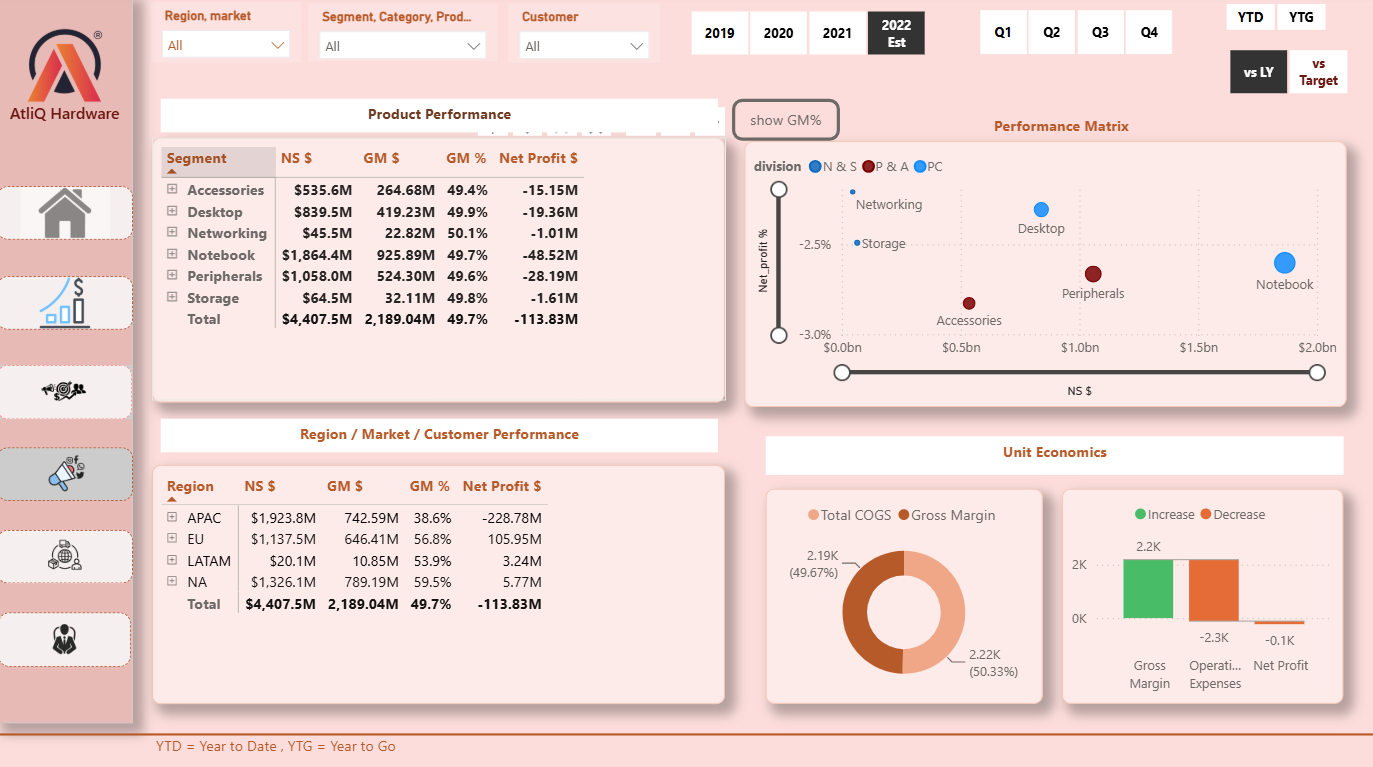

This screenshot's page, from the dashboard's own definition file:
{"tool":"powerbi","page":{"name":"Market View ","canvas":[1280,720],"ordinal":3},"visuals":[{"type":"scatterChart","title":"NP % visual","fields":{"Category":["dim_product.segment","dim_product.category","dim_product.product"],"X":["Key Measures.NS $"],"Size":["Key Measures.NS $"],"Series":["dim_product.division"],"Y":["Key Measures.Net_profit %"]},"box":[695.5,135.7,560,246.8],"z":0,"group":"g1"},{"type":"textbox","box":[714.9,410.3,537.9,35.7],"z":0},{"type":"actionButton","title":"GM % Button","box":[683.6,96.6,100.4,39.1],"z":1000,"group":"g1"},{"type":"textbox","box":[826.1,107,329.3,28.8],"z":1000},{"type":"pivotTable","fields":{"Rows":["dim_product.segment","dim_product.category","dim_product.product"],"Values":["Key Measures.NS $","Key Measures.GM $","Key Measures.GM %","Key Measures.Net Profit $"]},"box":[144.7,132.2,532.9,246.3],"z":2000},{"type":"pivotTable","fields":{"Rows":["dim_market.region","dim_market.market"],"Values":["Key Measures.NS $","Key Measures.GM $","Key Measures.GM %","Key Measures.Net Profit $"]},"box":[144.7,436.9,532.9,222.6],"z":3000},{"type":"textbox","box":[152.3,96.1,518.7,31.6],"z":4000},{"type":"textbox","box":[152.3,393.8,518.7,31.6],"z":5000},{"type":"donutChart","fields":{"Y":["Key Measures.P & L values"],"Category":["P & L Rows.Description"]},"box":[715.1,459.1,257.4,200.3],"z":6000},{"type":"waterfallChart","fields":{"Category":["P & L Rows.Description"],"Y":["Key Measures.P & L values"]},"box":[990.6,459.1,261.6,200.3],"z":7000},{"type":"group","id":"g1","title":"NP % group","box":[683.6,96.6,572.3,286.1],"z":9000},{"type":"textbox","box":[142.7,683.4,1110.1,34.3],"z":10000},{"type":"shape","box":[0,0,126.2,677.9],"z":11000},{"type":"image","box":[19.2,30.2,87.8,70],"z":12000},{"type":"textbox","box":[1.4,94.7,123.5,43.9],"z":13000},{"type":"image","box":[0,178.4,126.2,49.4],"z":14000},{"type":"image","box":[0,262.1,126.2,49.4],"z":15000},{"type":"image","box":[0,344.7,125.7,50],"z":16000},{"type":"image","box":[0,421.3,126.2,49.4],"z":17000},{"type":"image","box":[0,498.1,126.2,49.4],"z":18000},{"type":"image","box":[1.4,575,123.5,50],"z":19000},{"type":"slicer","fields":{"Values":["fiscal_year.fy_desc"]},"box":[620.2,8.2,267.6,52.1],"z":20000},{"type":"slicer","fields":{"Values":["dim_date.Quarter"]},"box":[887.8,6.9,229.2,54.9],"z":21000},{"type":"slicer","fields":{"Values":["dim_date.ytd_ytg"]},"box":[1117,1.4,142.7,34.3],"z":22000},{"type":"slicer","fields":{"Values":["dim_product.segment","dim_product.category","dim_product.product"]},"box":[289.5,8.2,175.6,53.5],"z":23000},{"type":"slicer","fields":{"Values":["dim_market.region","dim_market.market"]},"box":[142.7,6.9,140,56.3],"z":24000},{"type":"slicer","fields":{"Values":["dim_customer.customer"]},"box":[476.2,8.2,141.3,54.9],"z":25000},{"type":"slicer","fields":{"Values":["Set BM.Benchmark"]},"box":[1120.8,43.9,159.2,50.8],"z":26000},{"type":"shape","box":[1.1,678.7,1278.9,17.6],"z":27000}]}

Visuals, with their boxes in screenshot pixels (x1, y1, x2, y2), scaled from the page's 1280x720 canvas onto the 1373x767 screenshot:
"NP % visual" scatterChart: (left=746, top=145, right=1347, bottom=407)
textbox: (left=767, top=437, right=1344, bottom=475)
"GM % Button" actionButton: (left=733, top=103, right=841, bottom=145)
textbox: (left=886, top=114, right=1239, bottom=145)
pivotTable - dim_product.segment x dim_product.category: (left=155, top=141, right=727, bottom=403)
pivotTable - dim_market.region x dim_market.market: (left=155, top=465, right=727, bottom=703)
textbox: (left=163, top=102, right=720, bottom=136)
textbox: (left=163, top=420, right=720, bottom=453)
donutChart - Key Measures.P & L values x P & L Rows.Description: (left=767, top=489, right=1043, bottom=702)
waterfallChart - P & L Rows.Description x Key Measures.P & L values: (left=1063, top=489, right=1343, bottom=702)
"NP % group" group: (left=733, top=103, right=1347, bottom=408)
textbox: (left=153, top=728, right=1344, bottom=765)
shape: (left=0, top=0, right=135, bottom=722)
image: (left=21, top=32, right=115, bottom=107)
textbox: (left=2, top=101, right=134, bottom=148)
image: (left=0, top=190, right=135, bottom=243)
image: (left=0, top=279, right=135, bottom=332)
image: (left=0, top=367, right=135, bottom=420)
image: (left=0, top=449, right=135, bottom=501)
image: (left=0, top=531, right=135, bottom=583)
image: (left=2, top=613, right=134, bottom=666)
slicer - fiscal_year.fy_desc: (left=665, top=9, right=952, bottom=64)
slicer - dim_date.Quarter: (left=952, top=7, right=1198, bottom=66)
slicer - dim_date.ytd_ytg: (left=1198, top=1, right=1351, bottom=38)
slicer - dim_product.segment x dim_product.category: (left=311, top=9, right=499, bottom=66)
slicer - dim_market.region x dim_market.market: (left=153, top=7, right=303, bottom=67)
slicer - dim_customer.customer: (left=511, top=9, right=662, bottom=67)
slicer - Set BM.Benchmark: (left=1202, top=47, right=1372, bottom=101)
shape: (left=1, top=723, right=1372, bottom=742)
